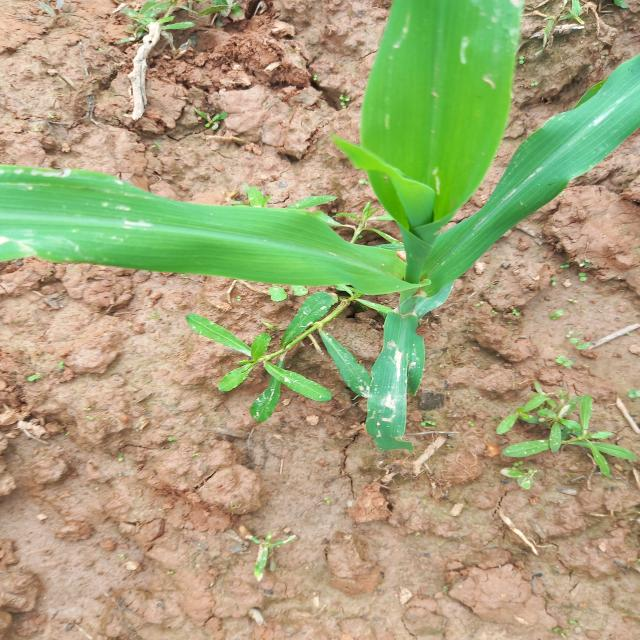maize: (297, 11, 627, 392), (13, 157, 401, 294)
weed: (491, 391, 632, 482), (190, 307, 309, 413), (102, 3, 241, 64)
